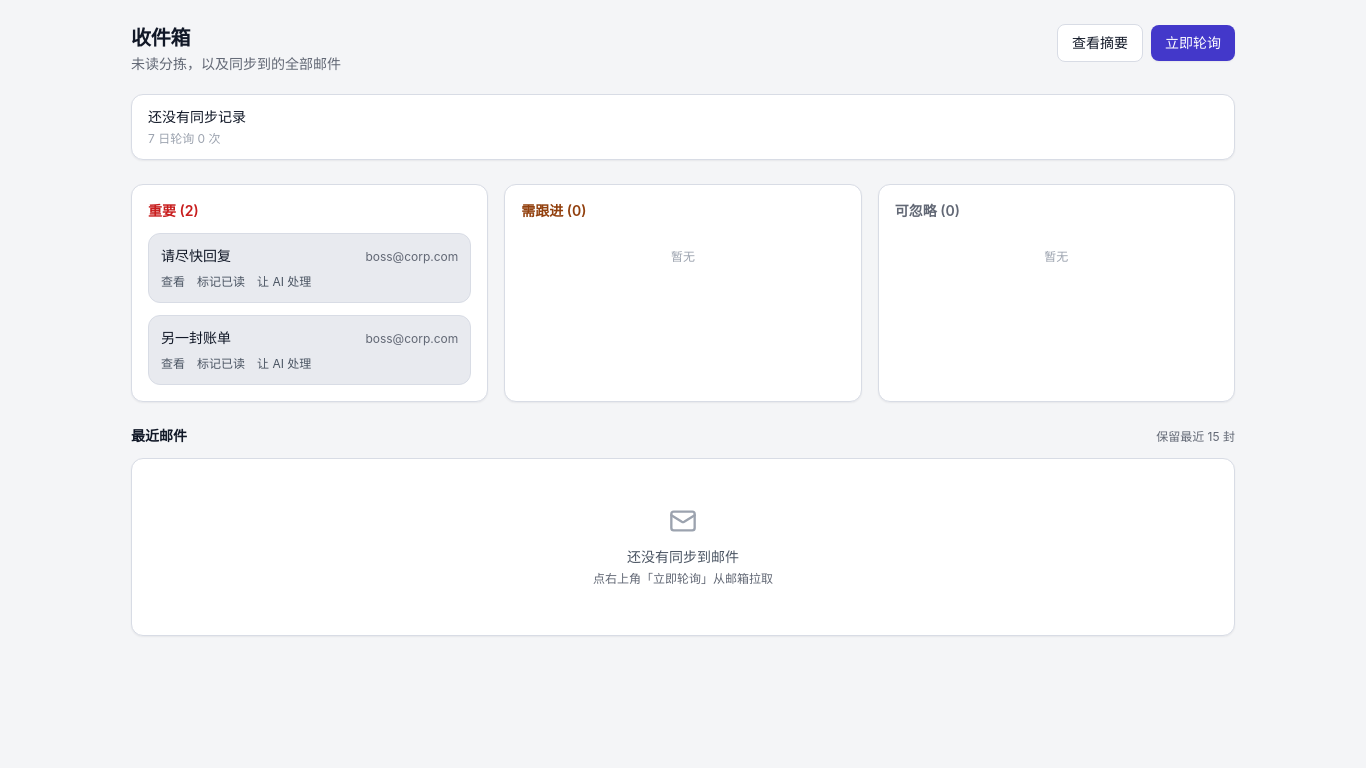
Test: InboxPage › keeps the mail list and a retry when opening one message fails
Expected: the text "请尽快回复" is shown, [161,247,231,264]
Expected: the text "另一封账单" is shown, [161,329,231,346]
Step 1. Click the button "查看" below "请尽快回复" → (173, 282), box [161,274,185,290]
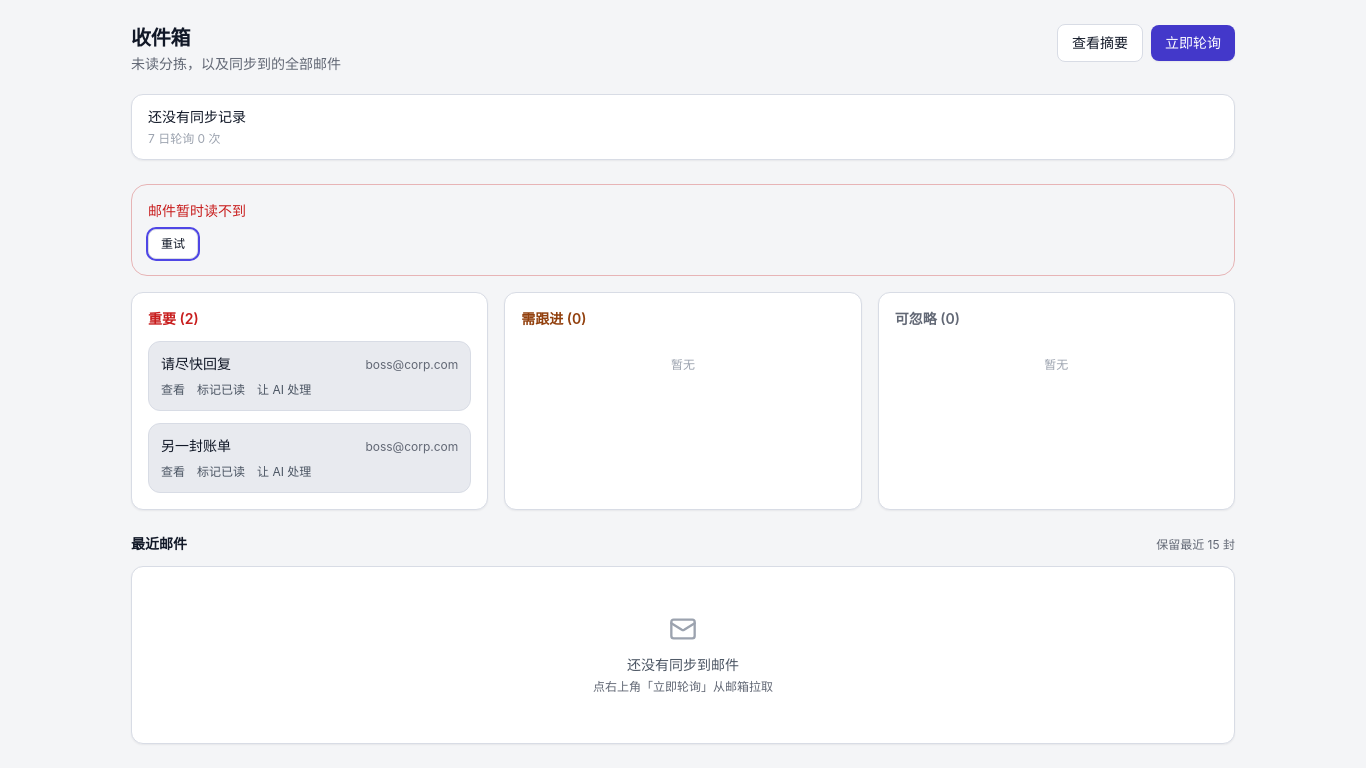
Expected: the text "请尽快回复" is shown, [161,355,231,372]
Expected: the message with test id "inbox-detail-load-error" shows "邮件暂时读不到", [148,202,246,219]
